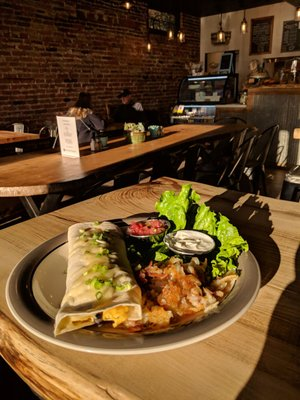curry: (0, 175, 299, 399), (0, 123, 235, 190)
pasta: (240, 124, 279, 196)
sandwich: (50, 184, 251, 335)
